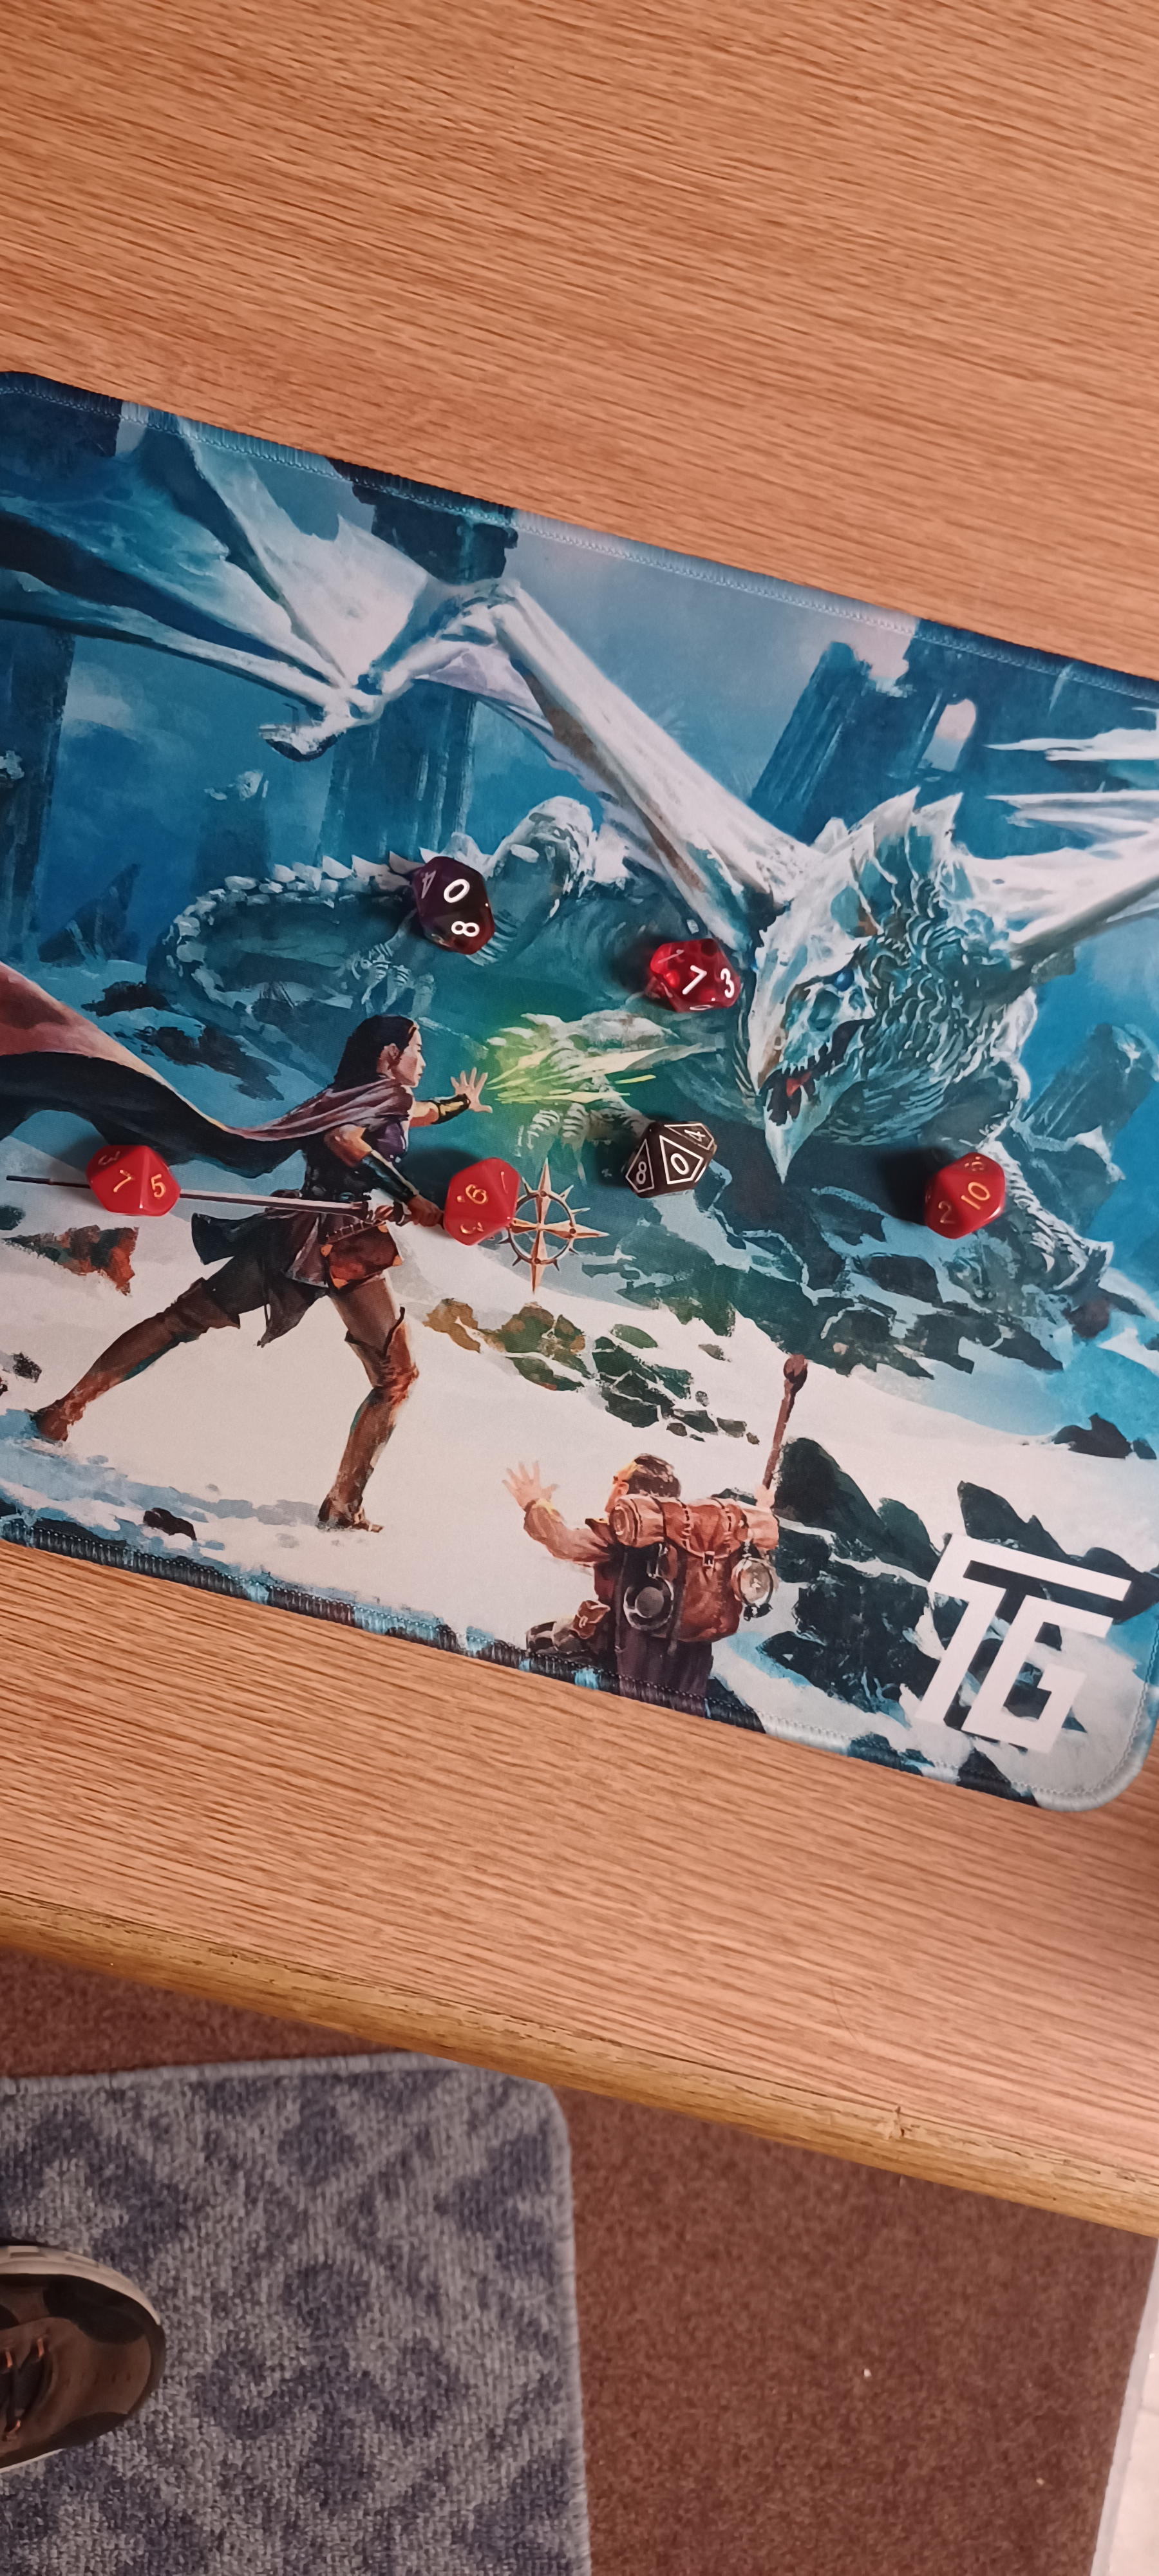nine: (424, 1142, 535, 1252)
seven: (625, 923, 762, 1035), (69, 1125, 200, 1232)
ten: (911, 1132, 1031, 1257)
zero: (384, 843, 522, 971), (612, 1101, 727, 1216)
